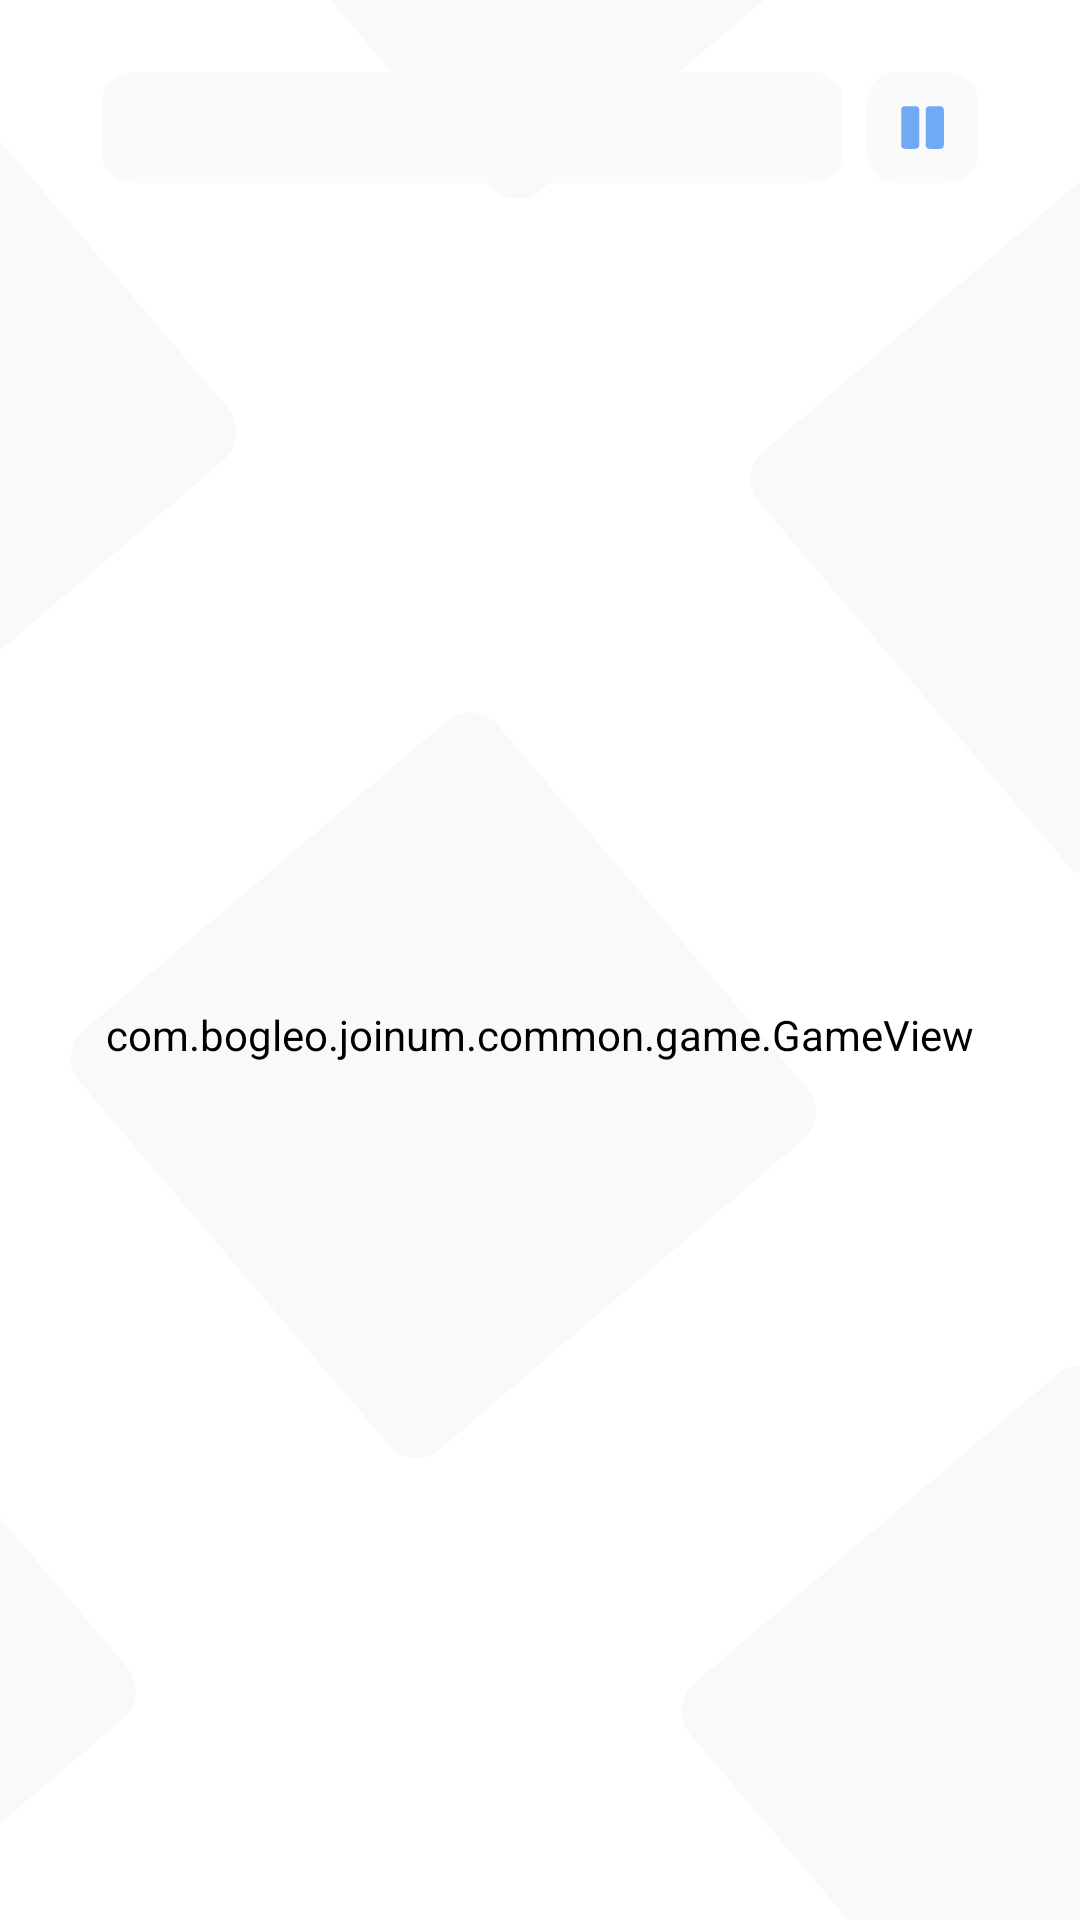

Icon bounding boxes for this 1080w x 1920h phone screenshot, format (x1, y1, x2, y2):
Pause: (901, 106, 944, 149)
